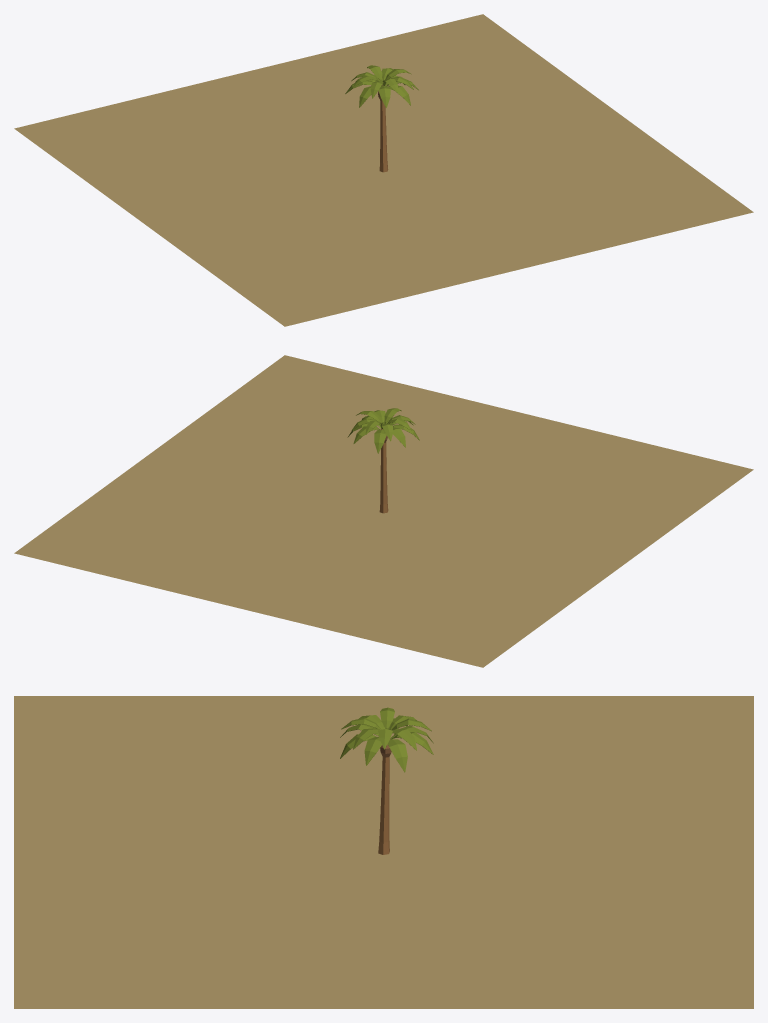
The model's file is Tile 44_Combined_2.fbx.
3 renders of one model, top to bottom at view 1: azimuth 30°, elevation 25°; view 2: azimuth 150°, elevation 25°; view 3: azimuth 270°, elevation 25°, orthographic. The views are drawn at different scales.
Parts seen in each view (by area): view 1: MeshBaker_mesh_mesh; view 2: MeshBaker_mesh_mesh; view 3: MeshBaker_mesh_mesh.
Part boxes in pixels (x1,y1,x2,y2): MeshBaker_mesh_mesh: (14, 14, 753, 326); MeshBaker_mesh_mesh: (14, 355, 753, 667); MeshBaker_mesh_mesh: (14, 696, 753, 1008).
Size of the model in its own units: 3000 by 633 by 3000.
